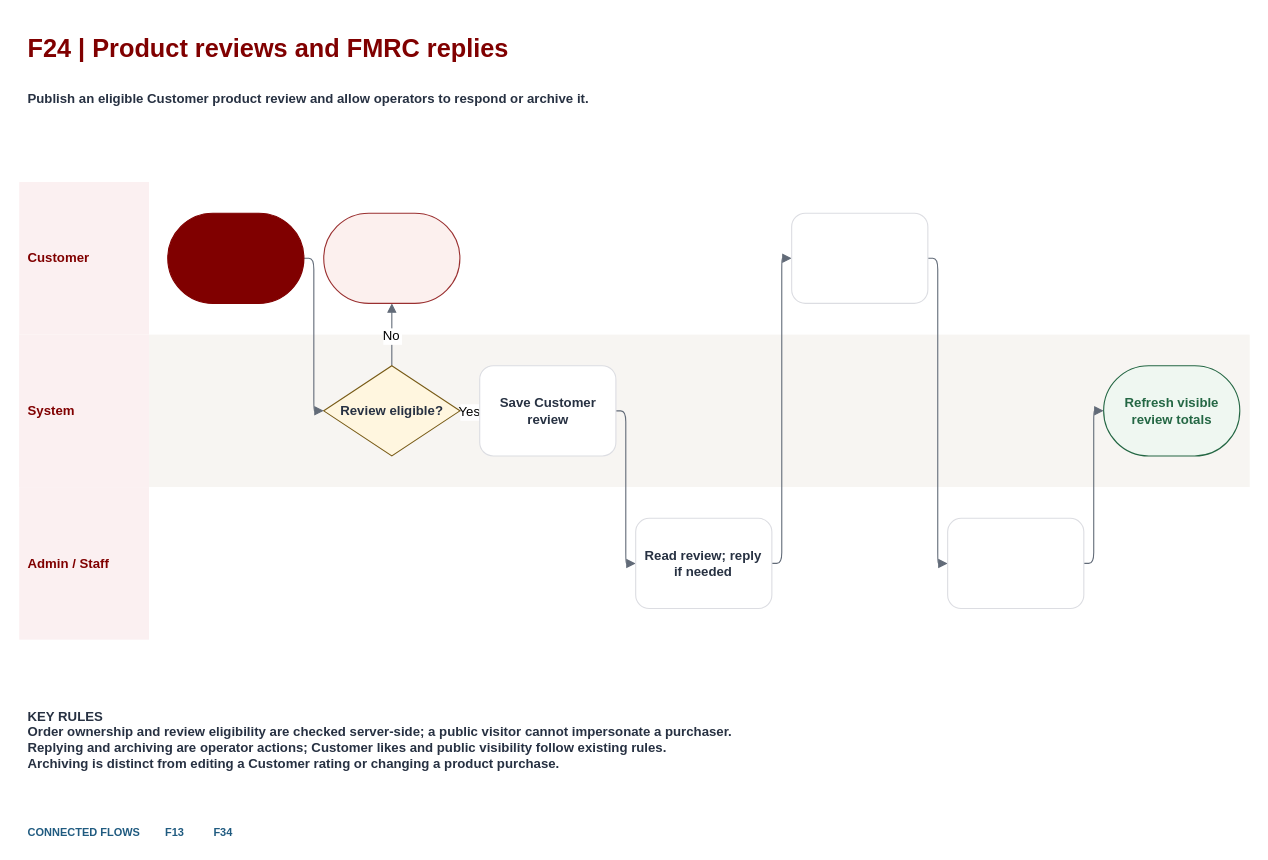
Image size: 1268x860. Some labels were removed from this diagram. Each missing label, with the centre of its shape:
Browse reviews or like a review: point 859,257
Enter rating and review: point 235,257
Keep or archive eligible review: point 1015,563
Read eligibility reason: point 391,257
